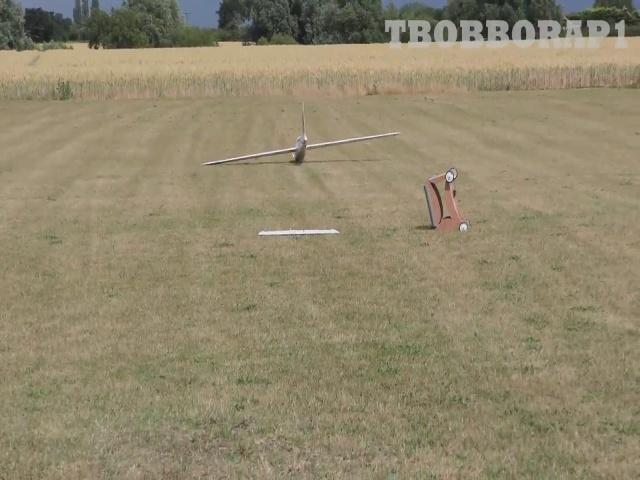Airplane: (201, 102, 400, 165)
